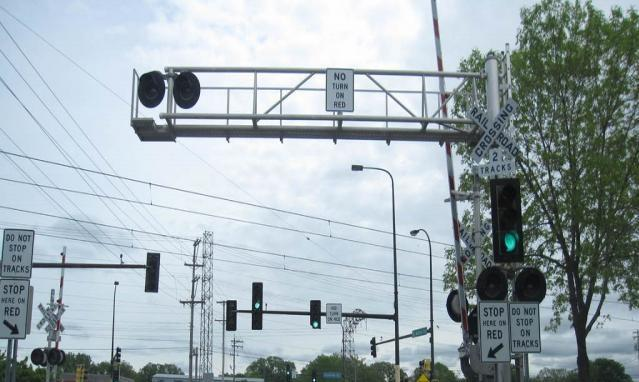green_light: (491, 177, 523, 264), (252, 282, 262, 329), (310, 300, 321, 328)
